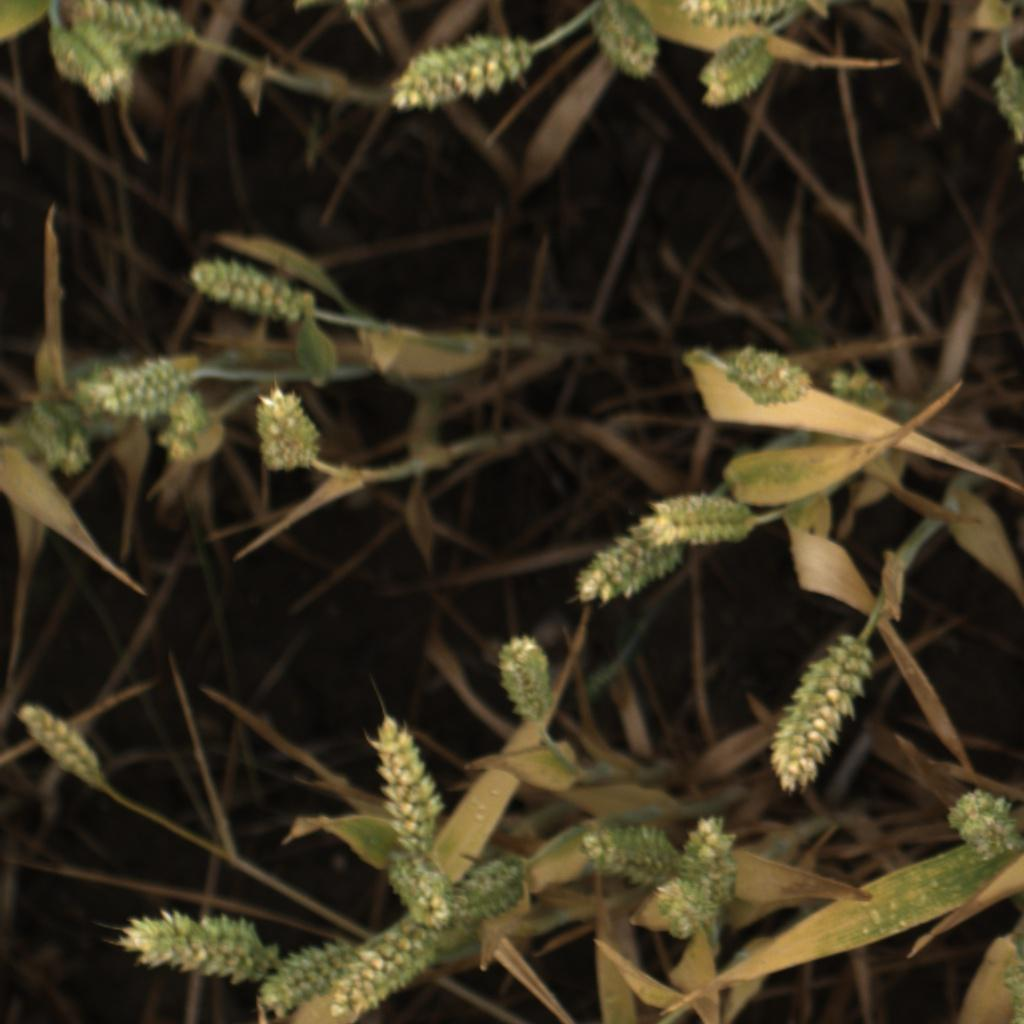0-0: (765, 619, 875, 797), (387, 26, 540, 123), (112, 905, 258, 991), (570, 509, 694, 607), (365, 709, 446, 853), (337, 929, 441, 1024), (82, 354, 201, 428), (247, 938, 351, 1019), (186, 254, 301, 322), (16, 699, 101, 788), (43, 28, 136, 107), (633, 490, 756, 547), (75, 0, 199, 55), (585, 2, 663, 84), (252, 388, 323, 478), (692, 36, 772, 113), (384, 848, 458, 929), (445, 855, 529, 925), (494, 636, 559, 726), (675, 812, 739, 902), (25, 413, 95, 494), (946, 787, 1023, 859), (580, 825, 670, 885), (727, 348, 816, 407), (156, 389, 221, 464), (654, 877, 718, 944), (828, 365, 897, 416), (679, 0, 796, 28), (984, 68, 1024, 144)
